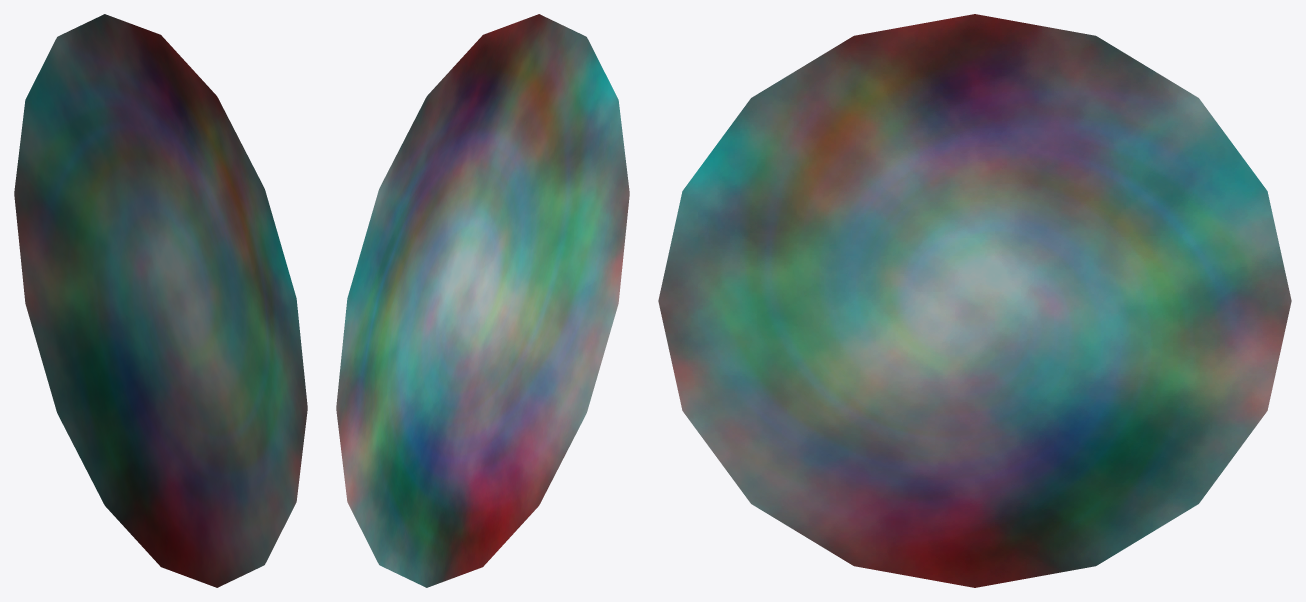
The model's file is RespawnTunnel_Portal.FBX.
The picture shows the model from 3 angles, left to right: view 1: azimuth 30°, elevation 25°; view 2: azimuth 150°, elevation 25°; view 3: azimuth 270°, elevation 25°; orthographic projection. The views are drawn at different scales.
Visible parts, largest first — view 1: RespawnTunnel_Portal; view 2: RespawnTunnel_Portal; view 3: RespawnTunnel_Portal.
Part boxes in pixels (x1,y1,x2,y2): RespawnTunnel_Portal: [14, 14, 307, 587]; RespawnTunnel_Portal: [336, 14, 629, 587]; RespawnTunnel_Portal: [658, 14, 1291, 587].
Size of the model in its own units: 70 by 2166 by 2166.
